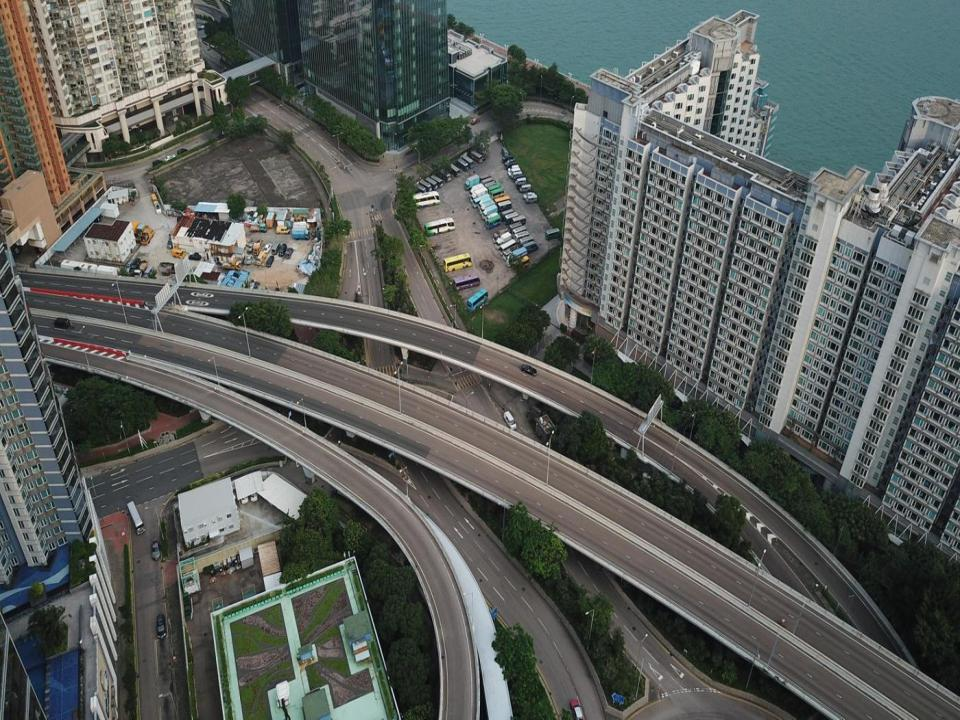bus: (127, 500, 145, 534), (423, 217, 454, 236), (443, 252, 472, 272), (412, 190, 440, 208), (467, 288, 488, 312), (453, 273, 480, 290), (498, 238, 516, 256), (512, 255, 530, 272), (496, 200, 512, 217), (493, 195, 510, 209), (514, 230, 530, 244), (418, 178, 432, 193), (486, 214, 501, 228), (490, 186, 504, 201), (518, 235, 534, 248), (500, 208, 514, 222), (413, 184, 426, 198), (424, 176, 437, 190), (429, 175, 443, 188), (470, 149, 483, 163), (512, 226, 526, 239), (504, 212, 518, 225), (480, 177, 494, 190), (545, 228, 560, 240), (461, 155, 474, 168), (456, 158, 469, 171), (509, 221, 522, 234), (484, 180, 497, 193), (439, 168, 451, 182), (511, 215, 526, 226), (479, 174, 491, 187), (449, 163, 460, 177)
car: (571, 699, 584, 719), (520, 364, 537, 376), (151, 538, 160, 560), (86, 214, 102, 224), (124, 260, 133, 273), (188, 253, 201, 261), (266, 255, 274, 267), (165, 154, 176, 162), (264, 243, 272, 253), (248, 241, 255, 251), (470, 118, 480, 125), (155, 203, 161, 214), (246, 255, 253, 264), (196, 23, 204, 29)
truck: (505, 246, 528, 268), (157, 261, 180, 276), (470, 185, 488, 204), (494, 231, 512, 250), (126, 221, 141, 240), (221, 258, 241, 272), (464, 174, 480, 191), (492, 227, 508, 244), (502, 244, 519, 260), (293, 220, 311, 235), (132, 224, 148, 240), (479, 199, 495, 215), (139, 227, 154, 244), (481, 204, 498, 219), (292, 226, 310, 240), (134, 261, 148, 279), (472, 194, 490, 208), (468, 183, 484, 198), (250, 222, 268, 233), (253, 237, 264, 255), (478, 197, 492, 210), (486, 212, 498, 226), (265, 212, 276, 227)
van: (504, 411, 516, 430), (157, 614, 166, 639), (522, 240, 538, 253), (54, 317, 69, 329), (257, 250, 266, 266), (130, 258, 140, 272), (144, 265, 154, 279), (278, 243, 288, 257), (167, 233, 176, 248), (276, 226, 290, 235), (172, 249, 186, 258), (272, 242, 281, 255), (477, 148, 486, 161), (284, 246, 293, 258), (519, 184, 532, 192), (515, 176, 526, 185), (151, 192, 158, 206), (523, 192, 535, 200), (502, 155, 513, 163), (509, 168, 520, 176), (511, 171, 522, 179), (502, 147, 509, 159), (508, 164, 518, 172), (177, 148, 188, 155), (526, 195, 537, 202), (506, 162, 517, 169), (517, 182, 527, 189), (152, 160, 163, 166), (505, 159, 515, 165)
